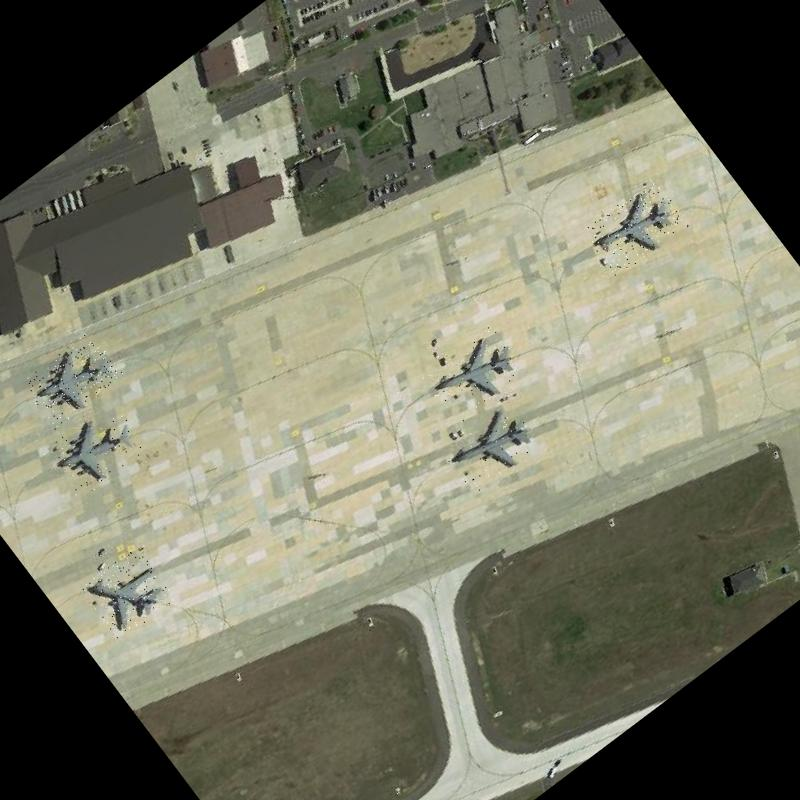A3: (41, 400, 149, 501), (20, 330, 125, 429)
A4: (422, 323, 531, 427), (582, 178, 690, 280), (435, 397, 542, 498), (78, 544, 176, 641)
